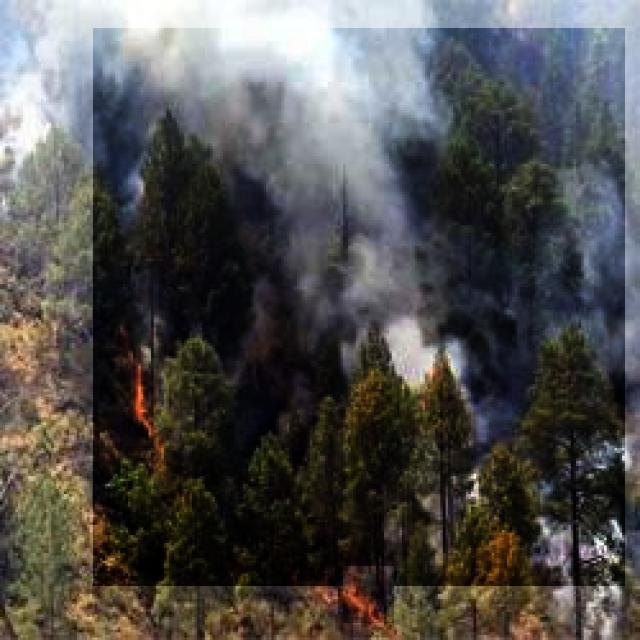Fire: (98, 358, 180, 446), (343, 566, 394, 623)
Smoke: (93, 28, 625, 586)
